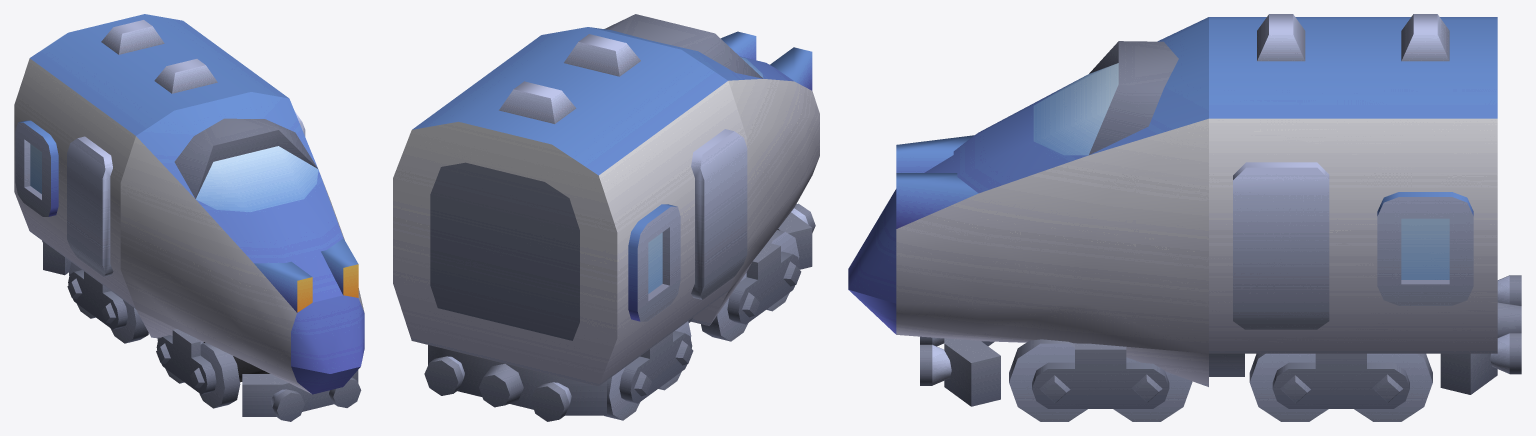
Rendered from train-electric-bullet-a.glb.
3 views of the same model, side by side, from view 1: azimuth 30°, elevation 25°; view 2: azimuth 150°, elevation 25°; view 3: azimuth 270°, elevation 25° (orthographic). The views are drawn at different scales.
Parts seen in each view (by area): view 1: train-electric-bullet-a, wheels-front, wheels-back; view 2: train-electric-bullet-a, wheels-front, wheels-back; view 3: train-electric-bullet-a, wheels-front, wheels-back.
Part boxes in pixels (bbox=[...]): train-electric-bullet-a: bbox=[14, 14, 364, 421]; wheels-front: bbox=[156, 329, 269, 408]; wheels-back: bbox=[67, 262, 148, 343]; train-electric-bullet-a: bbox=[393, 14, 819, 421]; wheels-front: bbox=[701, 230, 801, 341]; wheels-back: bbox=[604, 321, 693, 420]; train-electric-bullet-a: bbox=[848, 14, 1521, 406]; wheels-front: bbox=[1009, 339, 1192, 421]; wheels-back: bbox=[1249, 353, 1432, 421].
Size of the model in its own units: 1.32 by 1.64 by 2.8.
Materials: 1 (1 with a texture image).
